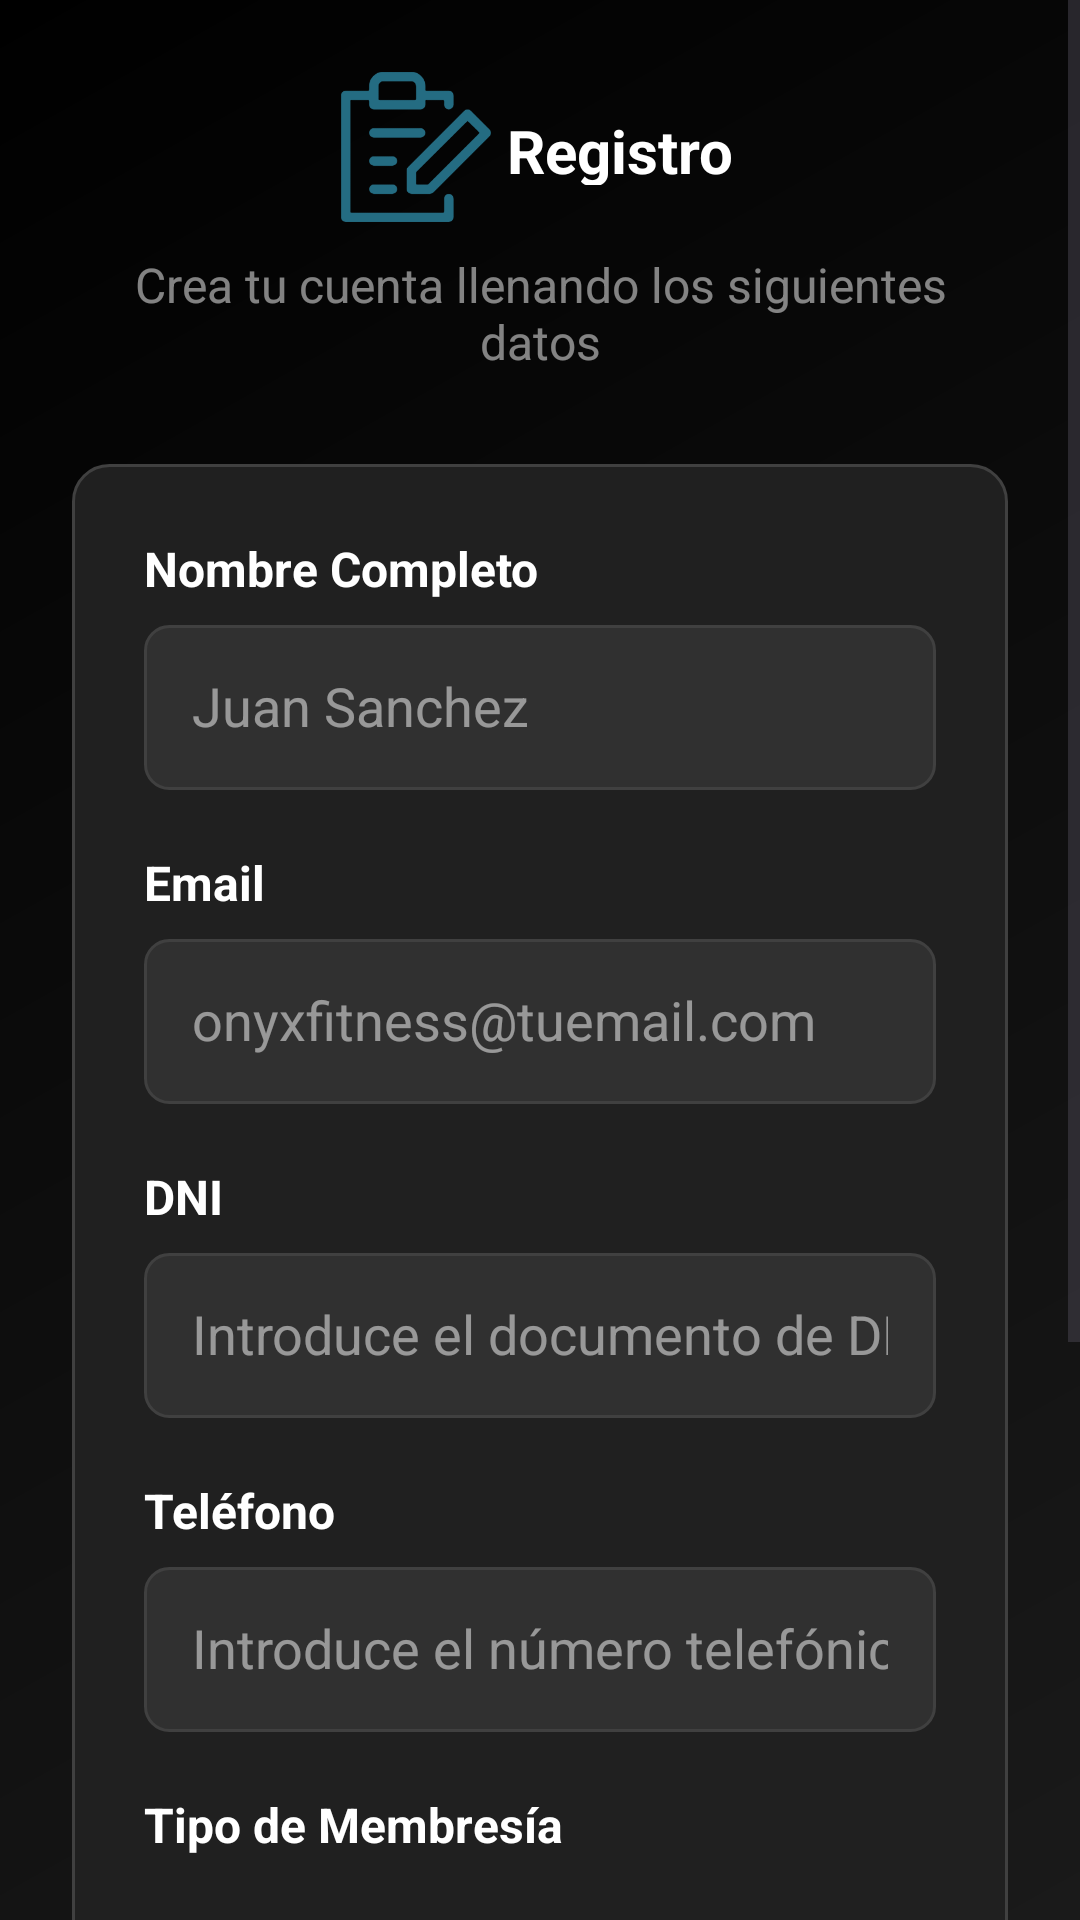

Where to tap for icons on this 1080px x 1920px app screen, as (x,y):
register user: (416,147)
